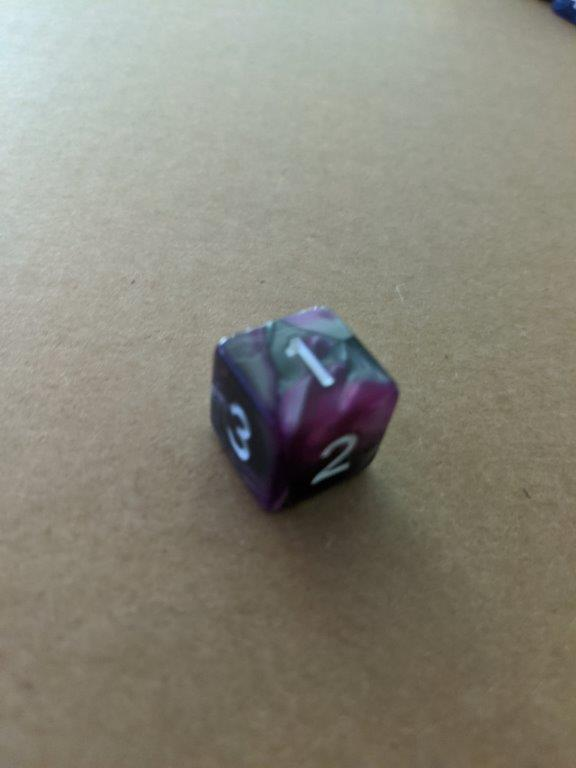d6-1: (206, 304, 401, 512)
